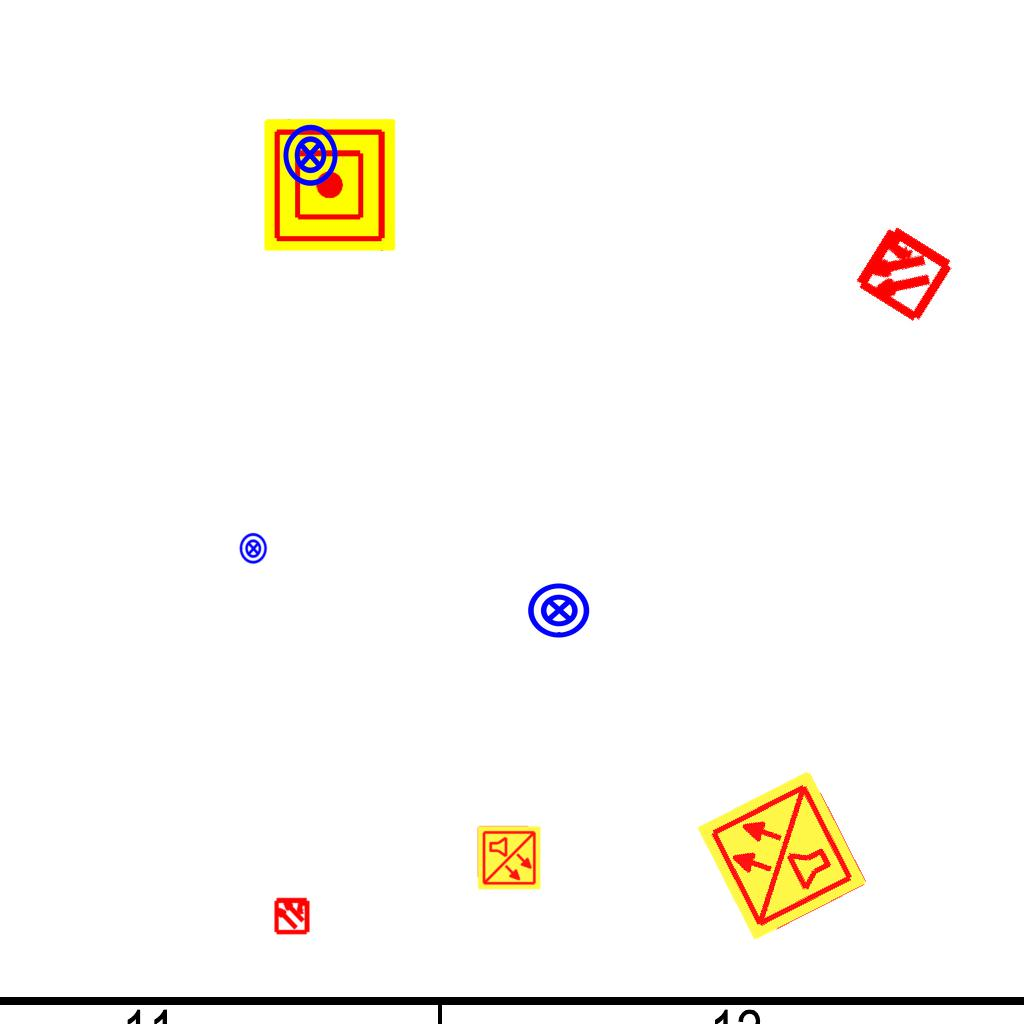NAM-Nichtautomatischer_Melder: (264, 119, 396, 251)
OKW_Multisensormelder_(Kombination_optischer_Rauch-Kahlenmonoxid_Waerme-Melder): (693, 766, 871, 944), (476, 825, 542, 891)
OT_Multisensormelder_(Kombination_RMO_WMD): (824, 194, 981, 351), (264, 887, 320, 943)
Taster_beleuchtet: (526, 577, 592, 643), (277, 122, 343, 188), (237, 532, 270, 565)
